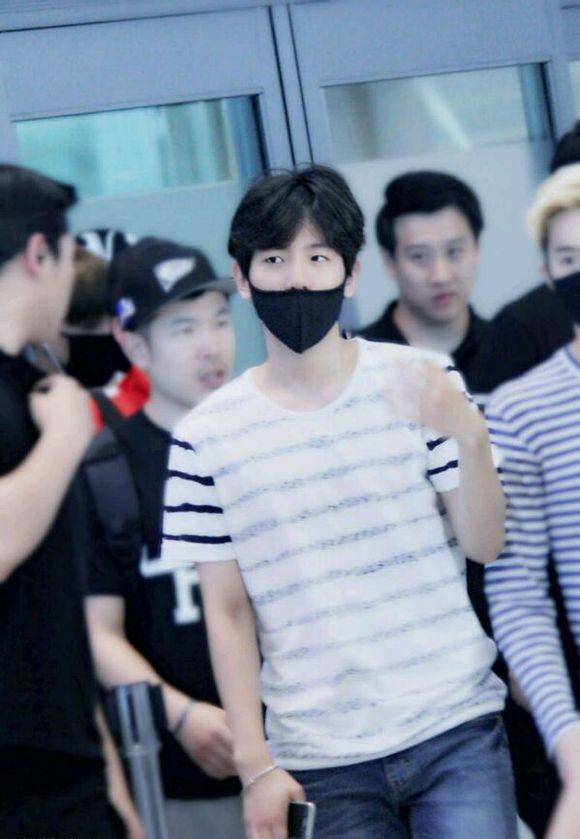NONE: (154, 309, 241, 399), (392, 227, 471, 325)
OK: (552, 225, 580, 331)
WRONG: (244, 240, 352, 348)
